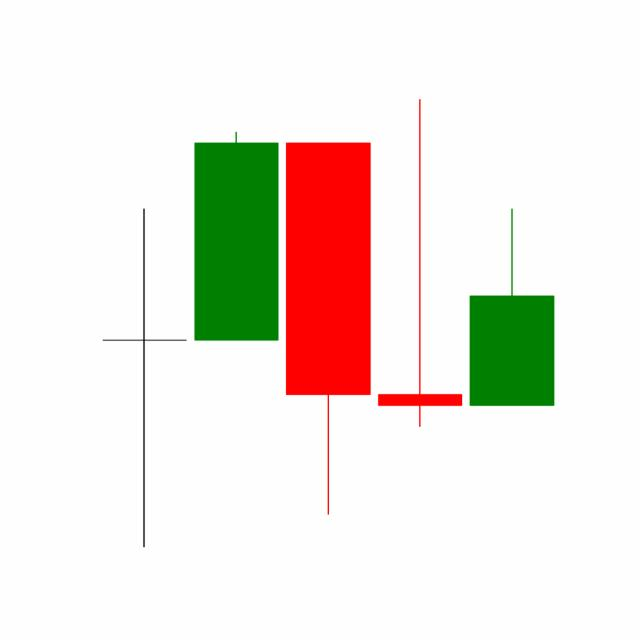Spinning Top: (373, 95, 467, 431)
